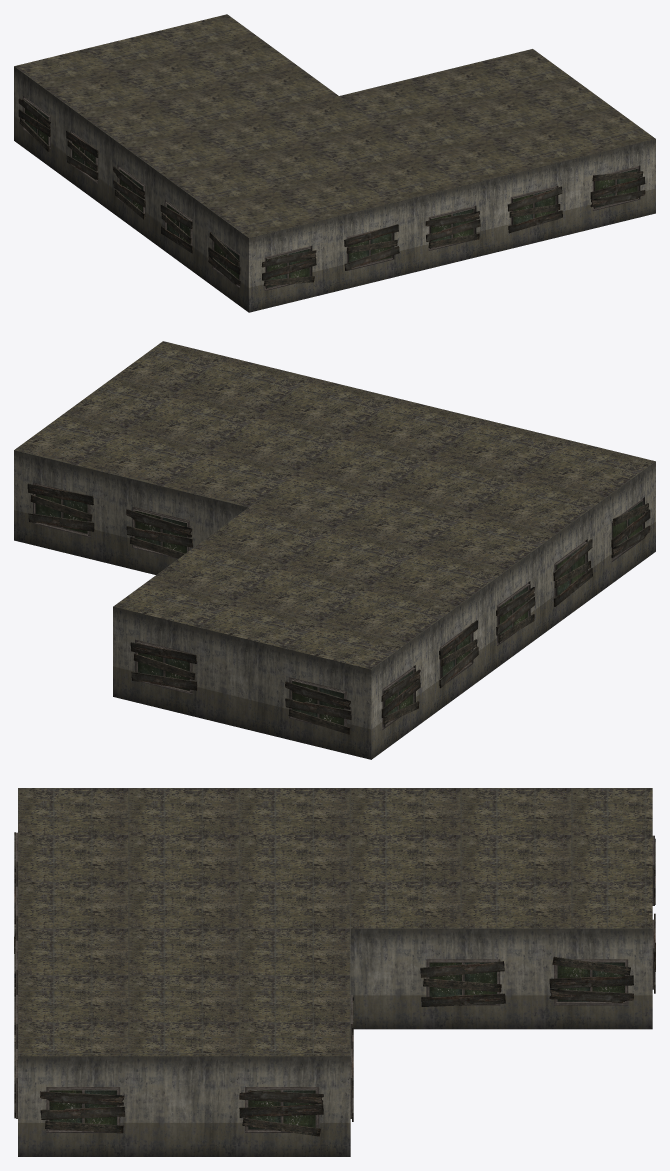
The model's file is barracks02int.obj.
3 renders of one model, top to bottom at view 1: azimuth 30°, elevation 25°; view 2: azimuth 150°, elevation 25°; view 3: azimuth 270°, elevation 25°, orthographic. The views are drawn at different scales.
Parts seen in each view (by area): view 1: BarracksIntCeling01:0, BarracksIntWalls:0, BarracksIntWood:0, BarracksIntGlass:0; view 2: BarracksIntCeling01:0, BarracksIntWalls:0, BarracksIntWood:0, BarracksIntGlass:0; view 3: BarracksIntCeling01:0, BarracksIntWalls:0, BarracksIntWood:0, BarracksIntGlass:0.
Boxes of the visible parts, x1,y1,x2,y2 form: BarracksIntCeling01:0: (14,14,655,237); BarracksIntWalls:0: (14,66,655,312); BarracksIntWood:0: (18,96,645,290); BarracksIntGlass:0: (25,101,637,287); BarracksIntCeling01:0: (14,341,655,669); BarracksIntWalls:0: (14,450,655,759); BarracksIntWood:0: (27,482,650,734); BarracksIntGlass:0: (36,494,642,725); BarracksIntCeling01:0: (18,788,652,1056); BarracksIntWalls:0: (18,928,652,1156); BarracksIntWood:0: (14,832,655,1136); BarracksIntGlass:0: (49,962,624,1129).
Bounding box in the file's own units: 120 × 20.8 × 120.
Materials: 5 (5 with a texture image).
